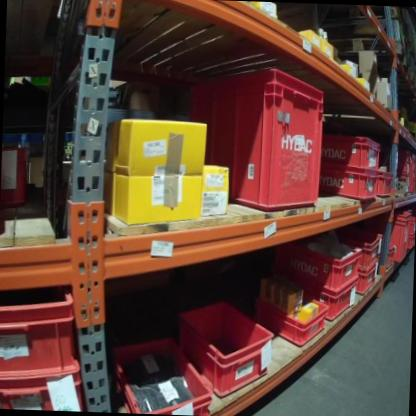pallet: (326, 28, 412, 79), (407, 61, 416, 96)
small_load_carrier: (186, 64, 327, 219), (177, 298, 275, 398), (104, 340, 213, 416), (0, 279, 81, 377), (242, 278, 329, 349), (273, 236, 365, 294), (0, 368, 80, 409), (326, 130, 387, 174), (324, 165, 380, 203), (318, 284, 360, 323), (349, 229, 386, 272), (381, 214, 410, 266), (376, 167, 396, 196), (393, 143, 413, 164), (408, 151, 416, 198), (364, 269, 379, 292), (394, 159, 412, 173), (395, 172, 407, 188), (408, 213, 415, 233), (409, 234, 414, 247)
